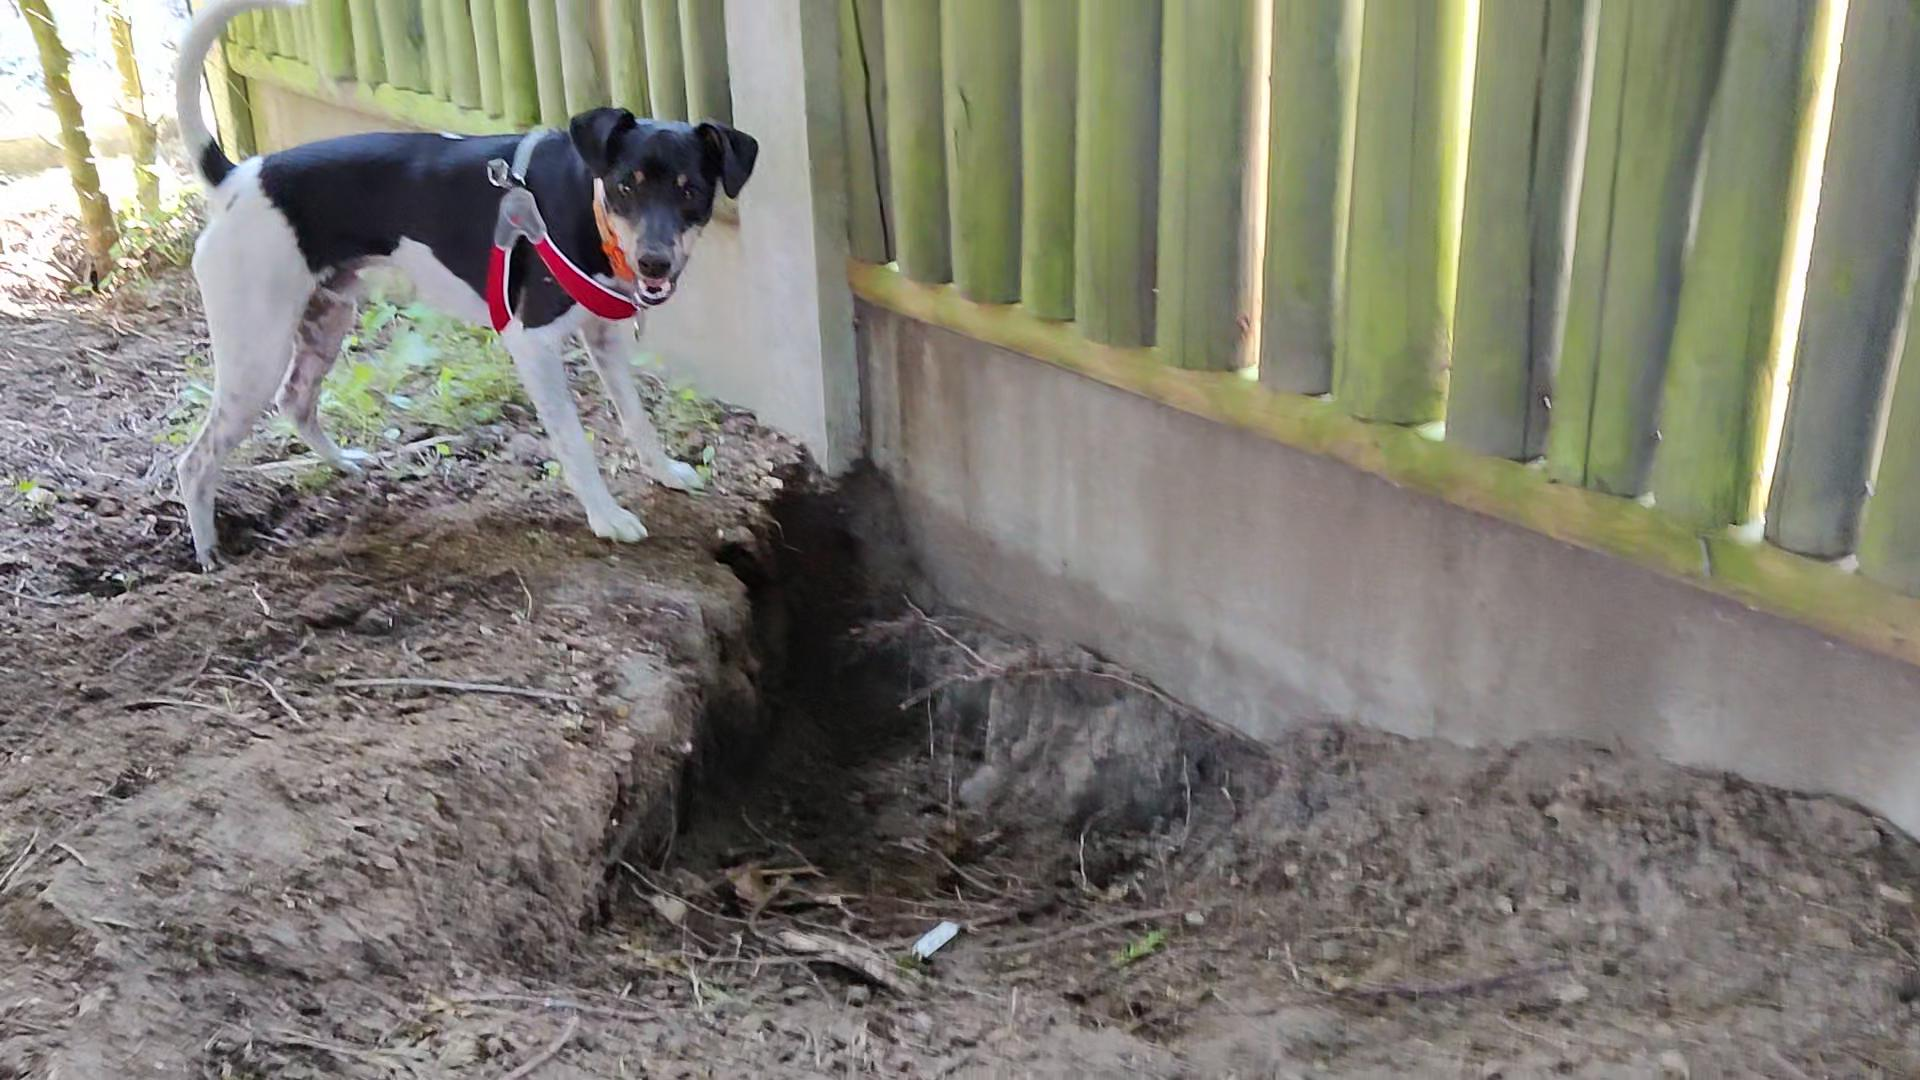Dog: (142, 0, 774, 585)
